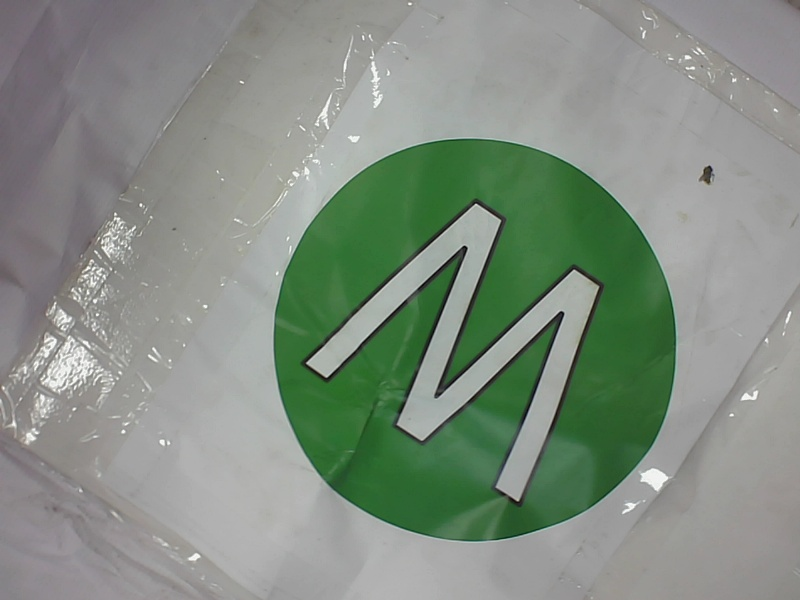areaB: (271, 123, 679, 553)
